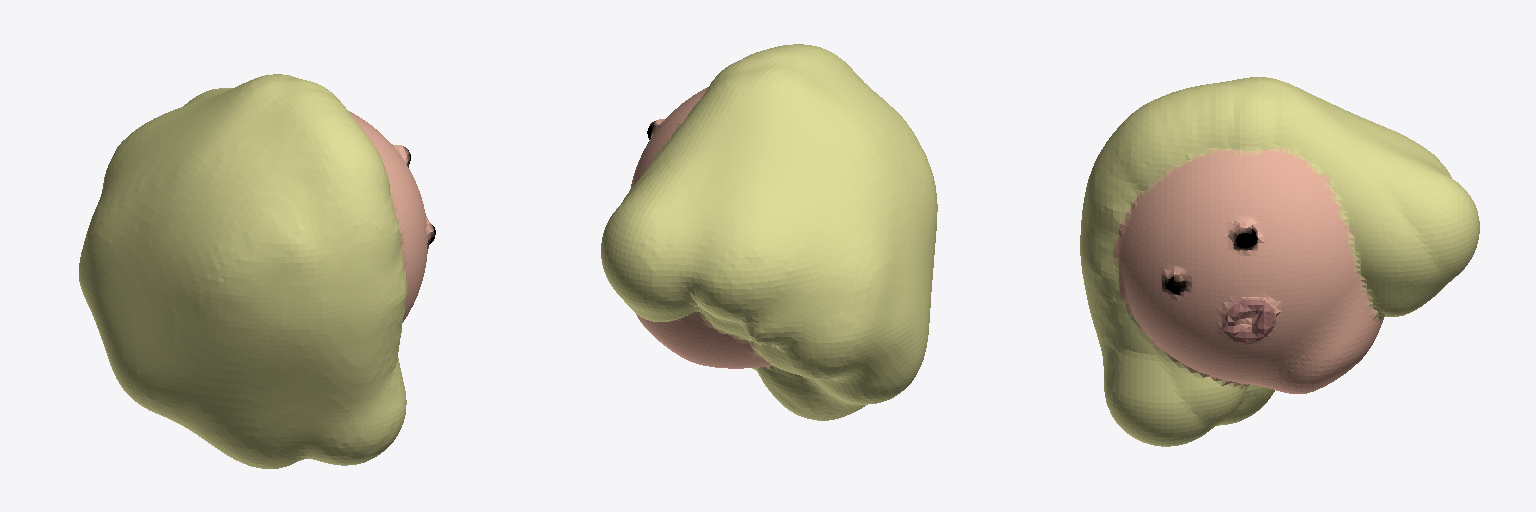
The picture shows the model from 3 angles: view 1: azimuth 30°, elevation 25°; view 2: azimuth 150°, elevation 25°; view 3: azimuth 270°, elevation 25°; orthographic projection.
Parts seen in each view (by area): view 1: Layer_1; view 2: Layer_1; view 3: Layer_1.
Part boxes in pixels (x1,y1,x2,y2): Layer_1: (79, 74, 435, 468); Layer_1: (601, 44, 937, 420); Layer_1: (1080, 77, 1479, 446).
Size of the model in its own units: 42.01 by 48.82 by 49.63.
Materials: 1 (1 with a texture image).